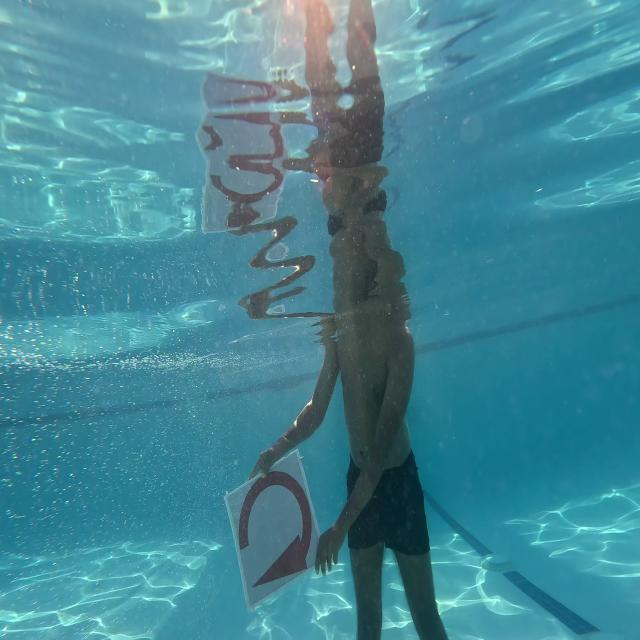red_side: (236, 457, 317, 601)
